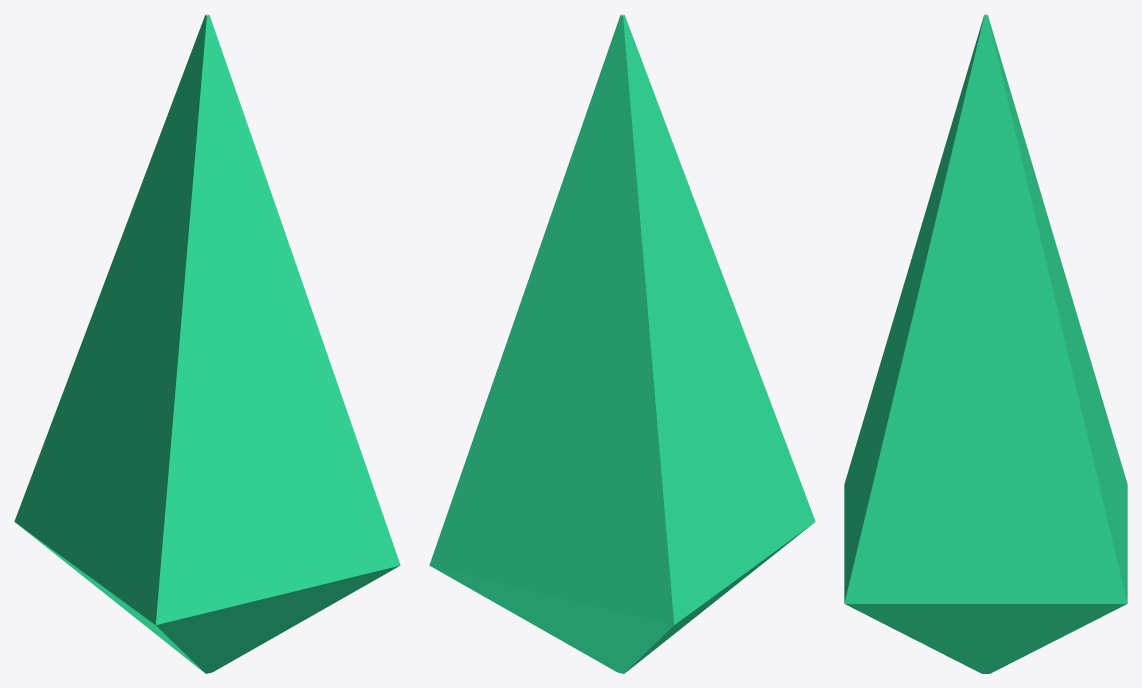
The model's file is selectedDiamond.fbx.
3 views of the same model, side by side, from view 1: azimuth 30°, elevation 25°; view 2: azimuth 150°, elevation 25°; view 3: azimuth 270°, elevation 25° (orthographic).
Visible parts, largest first — view 1: Cube; view 2: Cube; view 3: Cube.
Boxes of the visible parts, x1,y1,x2,y2 form: Cube: (14,14,400,673); Cube: (429,14,815,673); Cube: (844,14,1127,673).
Bounding box in the file's own units: 200 × 513 × 200.
